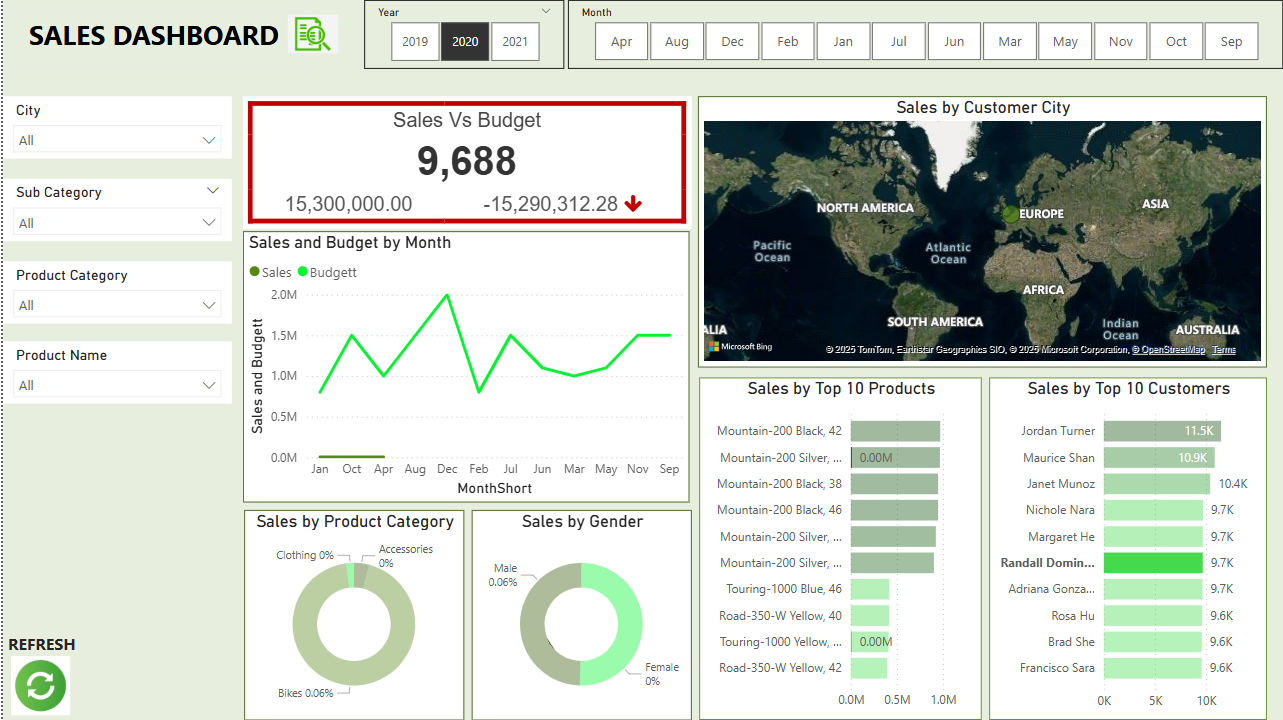

The dashboard page shown, as its layout file describes it:
{"tool":"powerbi","page":{"name":"SALES","canvas":[1280,720],"ordinal":0},"visuals":[{"type":"textbox","box":[0,11.2,301.2,57.5],"z":0},{"type":"slicer","fields":{"Values":["DIM_Calendar.Year"]},"box":[361.2,0,200,68.8],"z":1000},{"type":"slicer","fields":{"Values":["DIM_Calendar.MonthShort"]},"box":[564.9,0,715.4,68.5],"z":2000},{"type":"slicer","fields":{"Values":["DIM_Customers.Customer City"]},"box":[0,96.8,228.7,62.4],"z":3000},{"type":"slicer","fields":{"Values":["DIM_Products.Sub Category"]},"box":[0,178.8,228.7,62.4],"z":4000},{"type":"slicer","fields":{"Values":["DIM_Products.Product Category"]},"box":[0,260.7,228.7,62.4],"z":5000},{"type":"slicer","fields":{"Values":["DIM_Products.Product Name"]},"box":[0,341.4,228.7,62.4],"z":6000},{"type":"BBED0A4D4D8D44CE93CF2DAFADEE466C","fields":{"actual":["Metrics.Sales"],"target1":["Metrics.Budgett"],"target2":["Metrics.Sales- Budget"]},"box":[240,96.2,448.8,132.5],"z":7000},{"type":"donutChart","fields":{"Y":["Metrics.Sales"],"Series":["DIM_Products.Product Category"]},"box":[241.2,510,220,210],"z":8000},{"type":"lineChart","title":"Sales and Budget by Month","fields":{"Category":["DIM_Calendar.MonthShort"],"Y":["Metrics.Sales","Metrics.Budgett"]},"box":[240,231.2,446.2,271.2],"z":9000},{"type":"barChart","title":"Sales by Top 10 Customers","fields":{"Category":["DIM_Customers.Full Name"],"Y":["Metrics.Sales"]},"box":[986.2,377.5,277.5,342.5],"z":10000},{"type":"barChart","title":"Sales by Top 10 Products","fields":{"Y":["Metrics.Sales"],"Category":["DIM_Products.Product Name"]},"box":[696.2,377.5,282.5,342.5],"z":11000},{"type":"map","fields":{"Category":["DIM_Customers.Customer City"],"Size":["Metrics.Sales"]},"box":[694.4,96.7,568.9,271.1],"z":12000},{"type":"donutChart","fields":{"Y":["Metrics.Sales"],"Series":["DIM_Customers.Gender"]},"box":[468.8,510,220,210],"z":13000},{"type":"image","box":[0,651.2,75,68.8],"z":14000},{"type":"textbox","box":[0,627.5,228.8,32.5],"z":15000},{"type":"image","box":[280,1.2,60,65],"z":16000}]}

Visuals, with their boxes in screenshot pixels (x1, y1, x2, y2), scaled from the page's 1280x720 canvas onto the 1283x720 screenshot:
textbox: Rect(0, 11, 302, 69)
slicer - DIM_Calendar.Year: Rect(362, 0, 563, 69)
slicer - DIM_Calendar.MonthShort: Rect(566, 0, 1282, 68)
slicer - DIM_Customers.Customer City: Rect(0, 97, 229, 159)
slicer - DIM_Products.Sub Category: Rect(0, 179, 229, 241)
slicer - DIM_Products.Product Category: Rect(0, 261, 229, 323)
slicer - DIM_Products.Product Name: Rect(0, 341, 229, 404)
BBED0A4D4D8D44CE93CF2DAFADEE466C - Metrics.Sales x Metrics.Budgett: Rect(241, 96, 690, 229)
donutChart - Metrics.Sales x DIM_Products.Product Category: Rect(242, 510, 462, 719)
"Sales and Budget by Month" lineChart: Rect(241, 231, 688, 502)
"Sales by Top 10 Customers" barChart: Rect(989, 378, 1267, 719)
"Sales by Top 10 Products" barChart: Rect(698, 378, 981, 719)
map - DIM_Customers.Customer City x Metrics.Sales: Rect(696, 97, 1266, 368)
donutChart - Metrics.Sales x DIM_Customers.Gender: Rect(470, 510, 690, 719)
image: Rect(0, 651, 75, 719)
textbox: Rect(0, 628, 229, 660)
image: Rect(281, 1, 341, 66)
